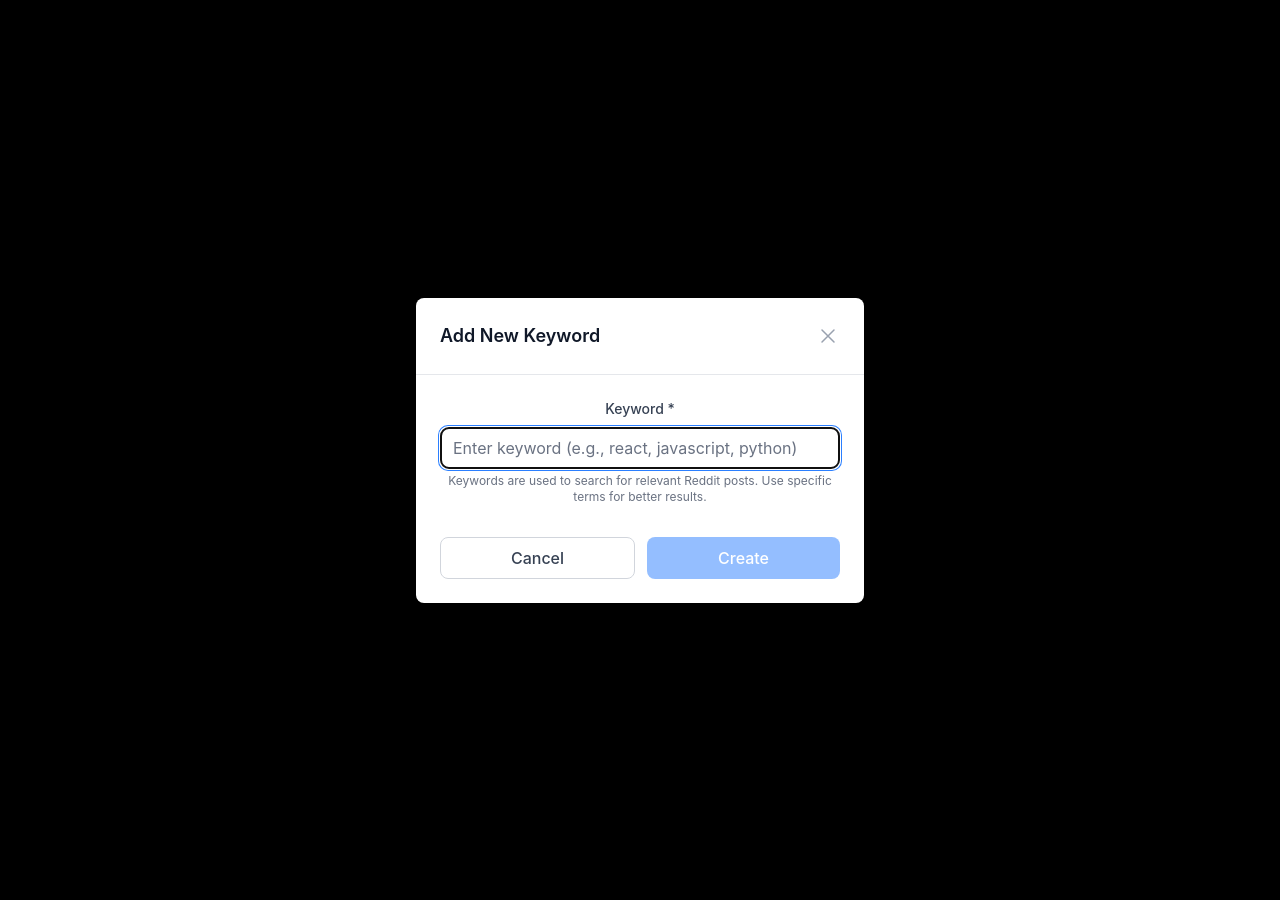
Test: KeywordForm › validates required keyword field
Expected: the button "Create" is disabled, [647,536,840,578]
In the field labelled "Keyword *": [640, 448] box [440,426,840,468], type "test"
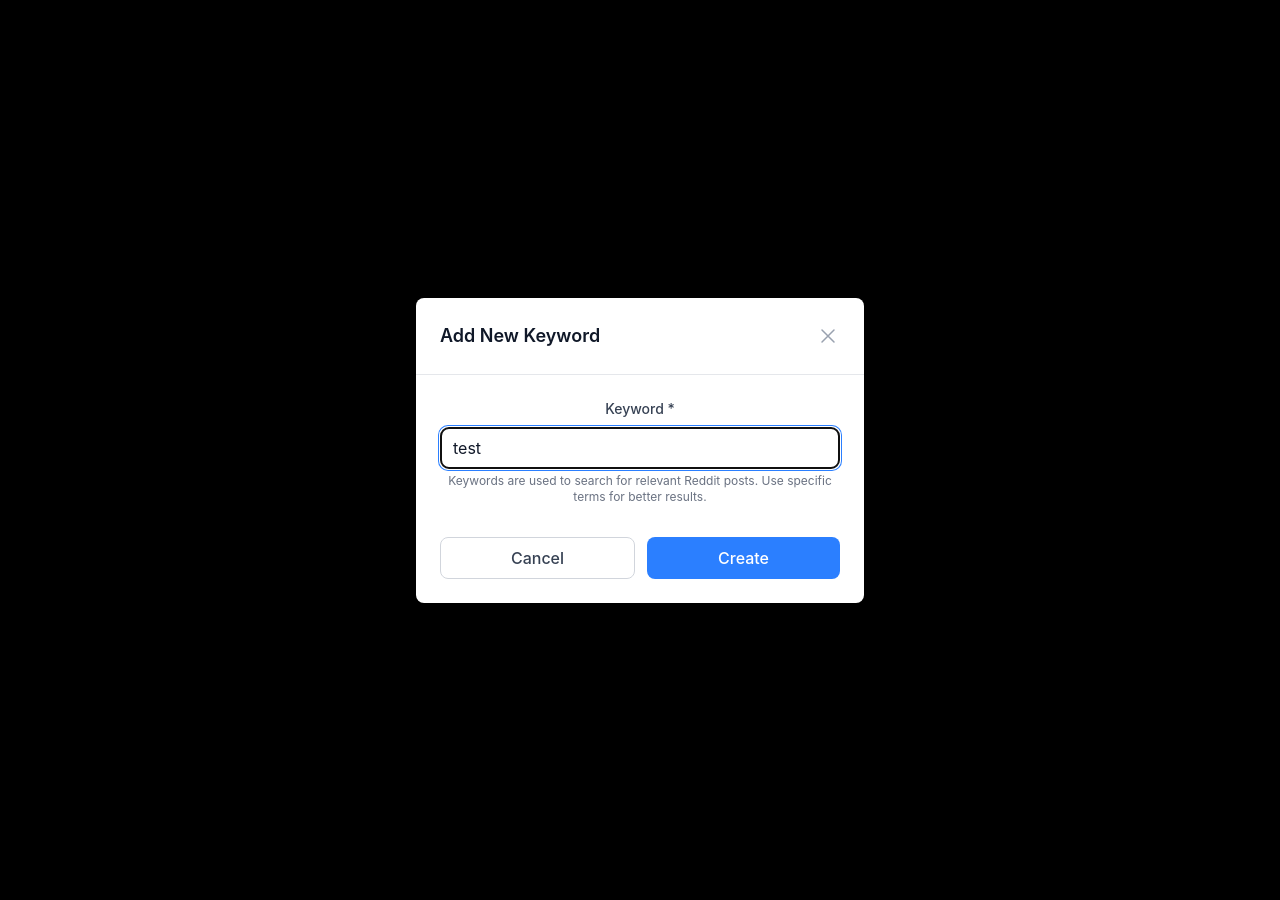
Expected: the button "Create" is enabled, [647,536,840,578]
